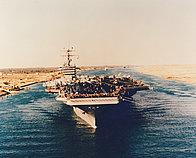MIL_Ship: (38, 43, 156, 130)
